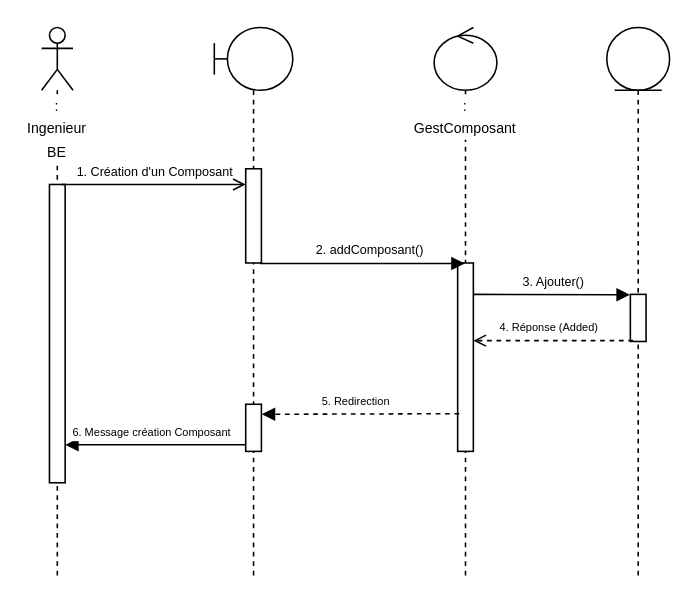
This 697x604 diagram has some shape labels left out. The shapes that lost their labels are listed below. From the top down, each one's box as (x1, y1, x2, y2) in pixels, then its label:
(213, 26, 293, 577): : Composant
(605, 26, 670, 577): : SGBD
